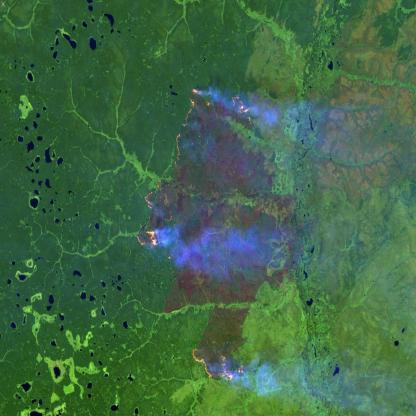fire: (133, 81, 260, 265), (186, 339, 250, 390)
